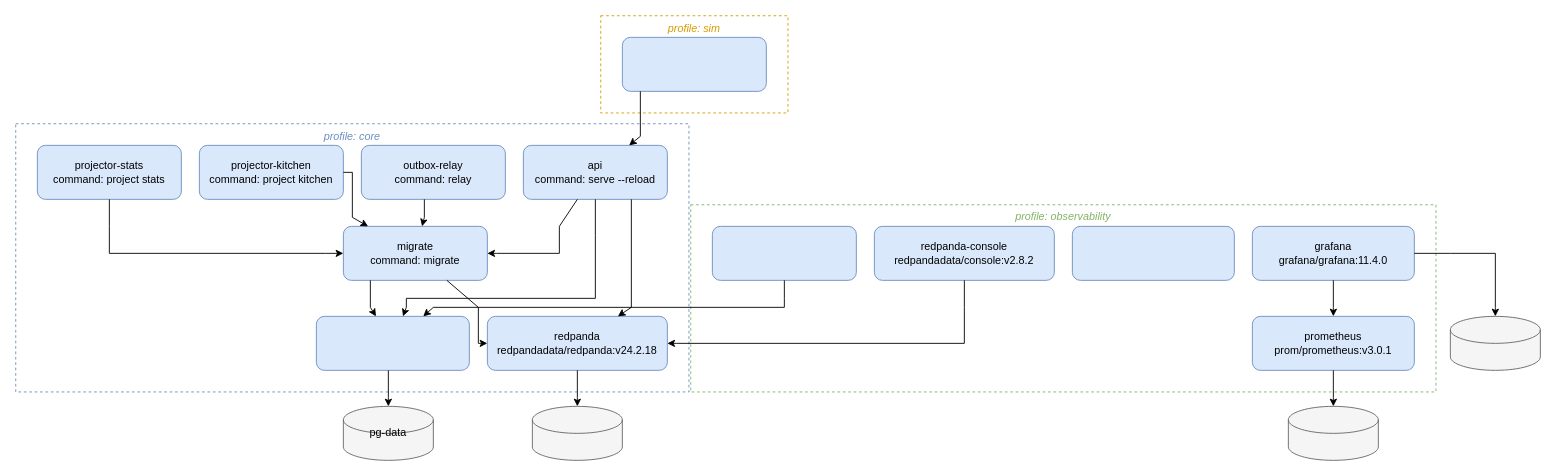
The diagram is 1556 pixels wide and 476 high, and some of its shapes have lost their labels. The centre of each missing label's shape, as x and y in pixels:
"alertmanager prom/alertmanager:v0.27.0" belongs at pixel 1152 252.
"graf-data" belongs at pixel 1494 342.
"pgadmin dpage/pgadmin4:8.14" belongs at pixel 783 252.
"postgres postgres:16-alpine" belongs at pixel 392 342.
"prom-data" belongs at pixel 1332 432.
"rp-data" belongs at pixel 576 432.
"simulator python -m simulator" belongs at pixel 693 63.
